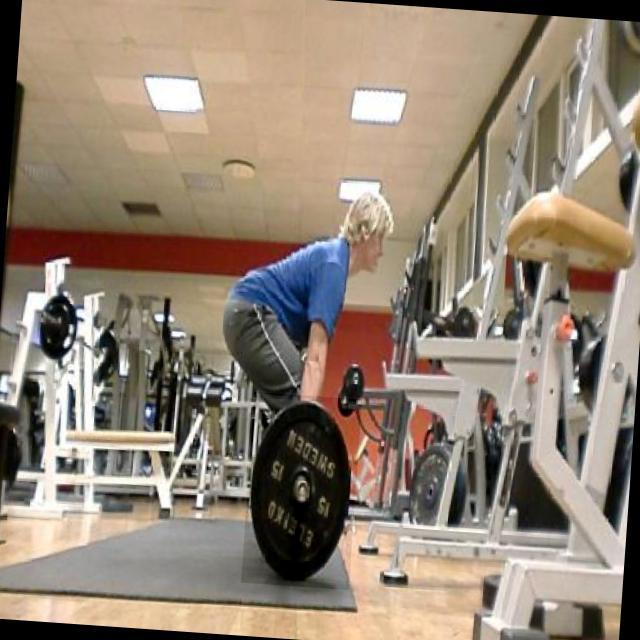barbell: (242, 393, 363, 591)
